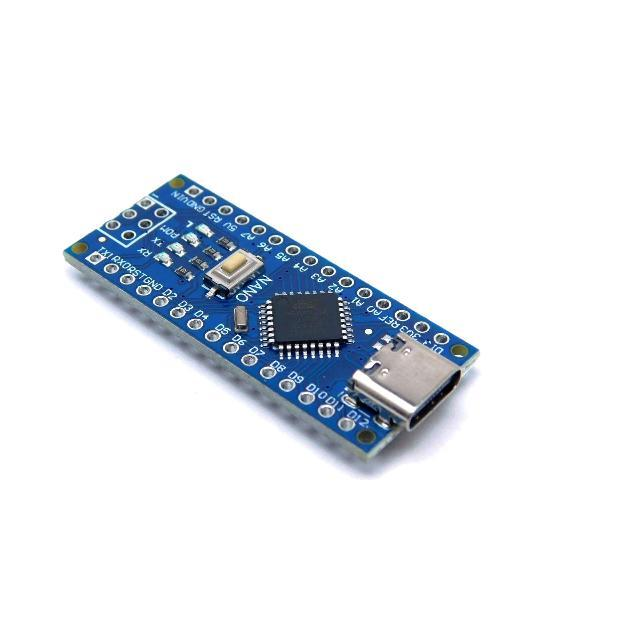Arduino-Nano: (66, 176, 479, 456)
